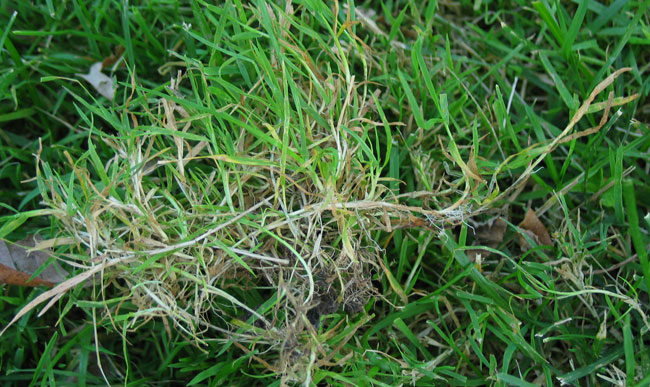crabgrass: (241, 39, 424, 208), (48, 183, 240, 312), (285, 309, 588, 387)
